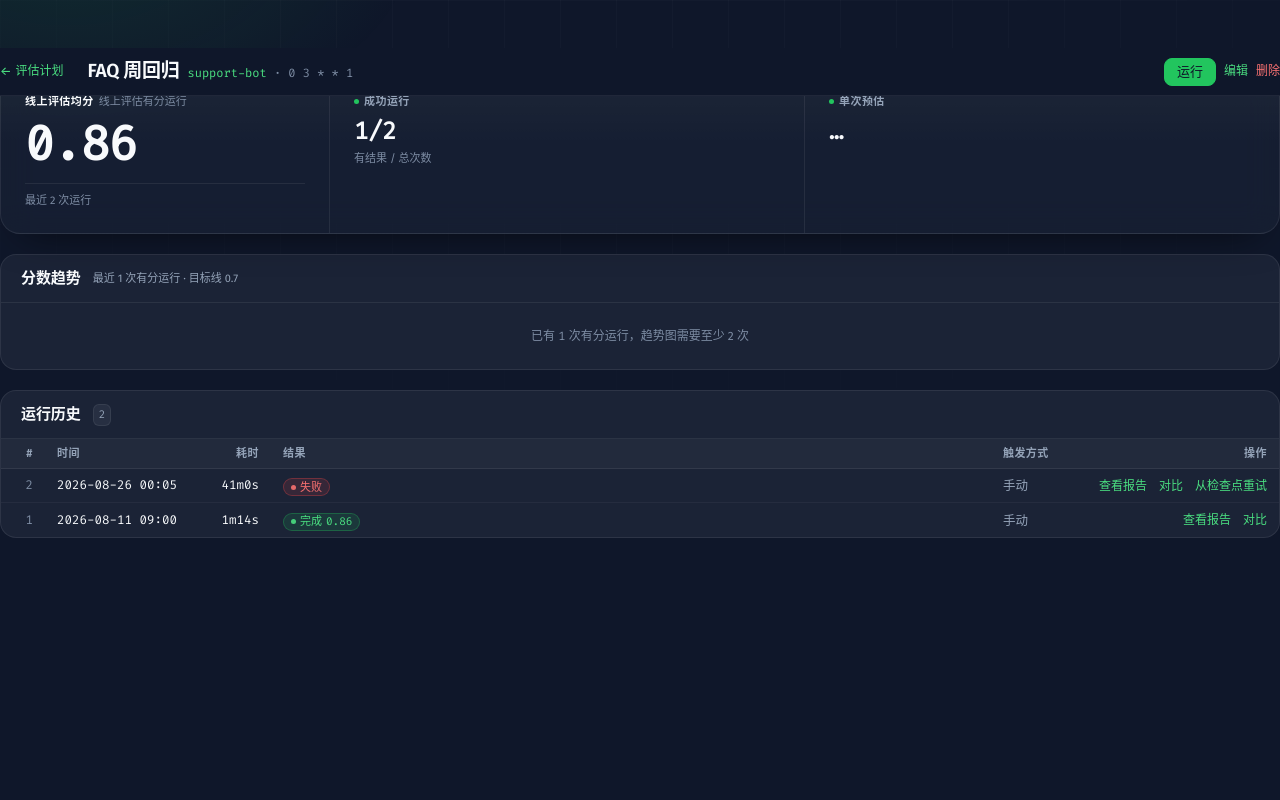
it: 交付 6：确认卡必须说清要再花多少钱 › 确认 → 发 resume_plan_run（只带 run_key），并进入与首跑同一张进度卡
Step 1. Click the button "从检查点重试" → (1231, 486), box [1195,478,1267,494]
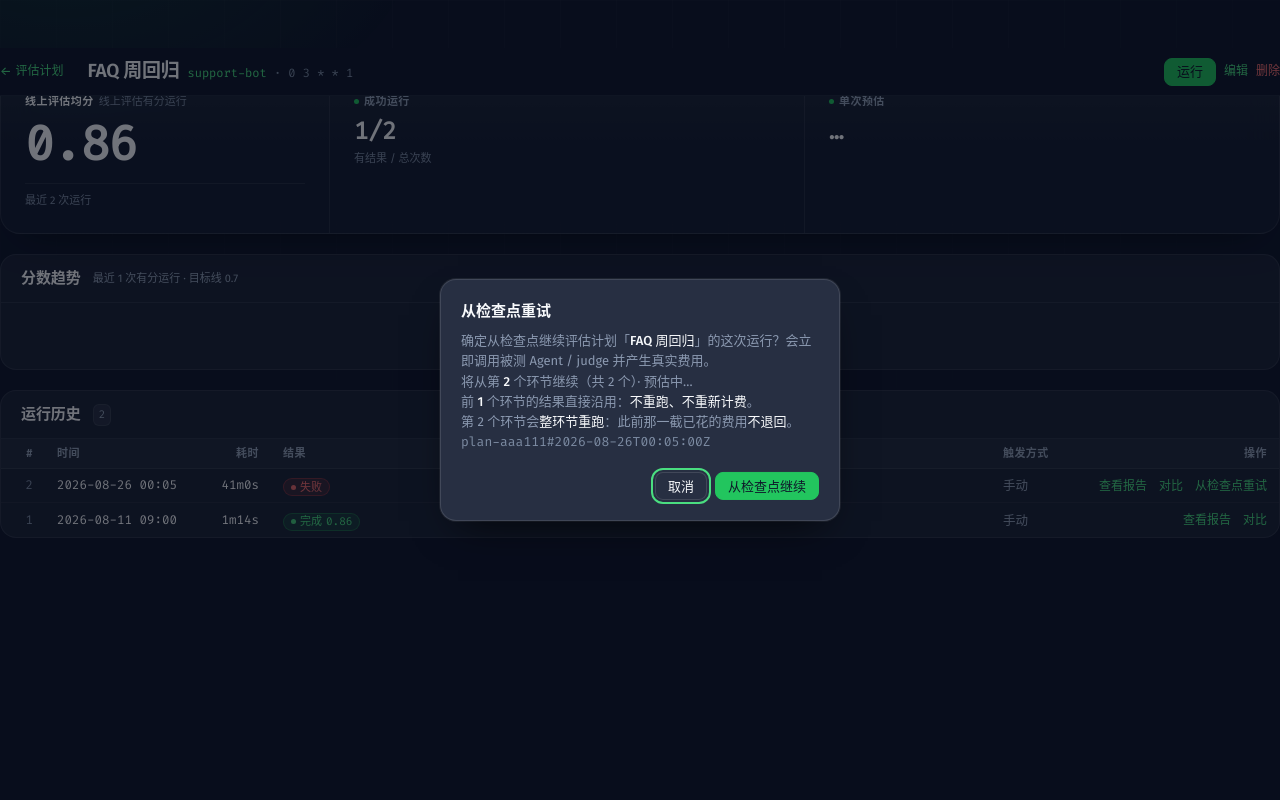
Step 2. Click the button with test id "confirm-card-ok" → (767, 486), box [715,472,819,500]
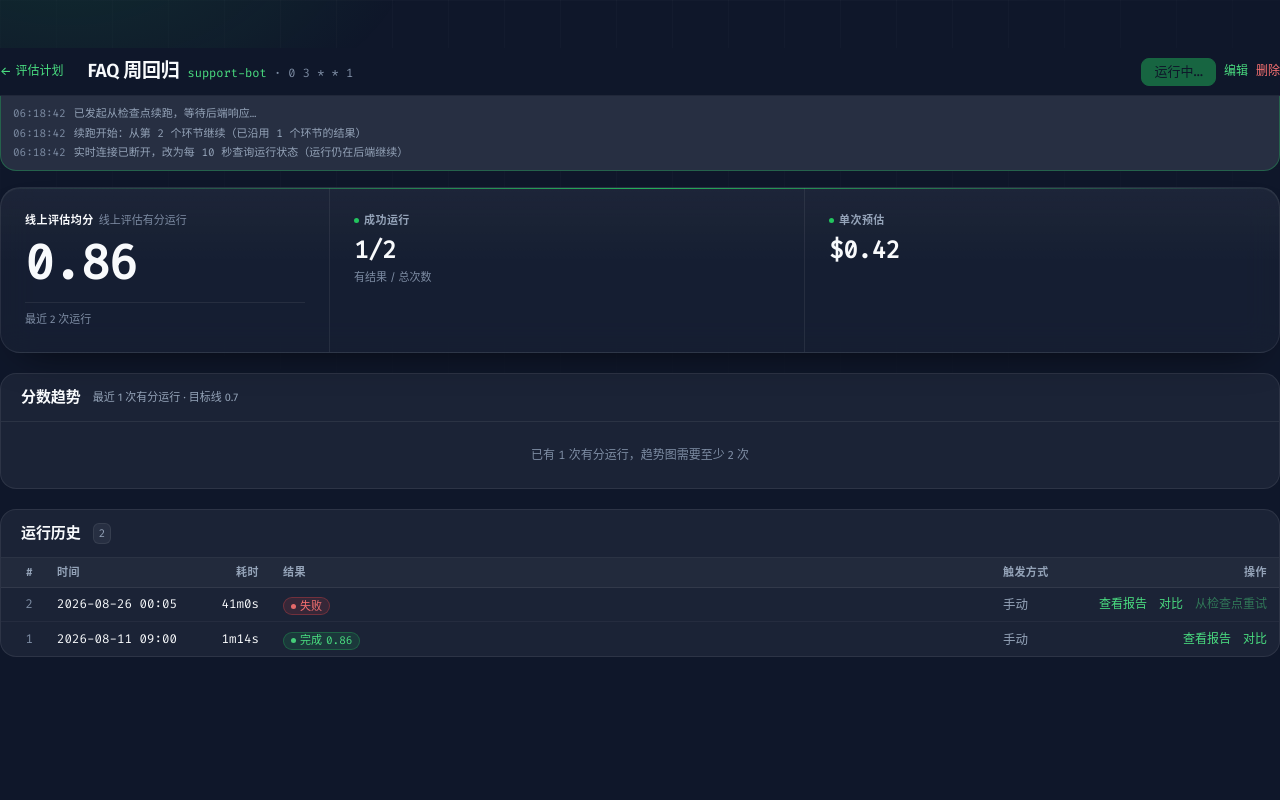
Expected: the element with test id "plan-run-progress-status" shows "运行中", [27,82,116,96]
Expected: the element with test id "plan-run-progress-log" shows "从第 2 个环节继续", [74,126,366,141]
